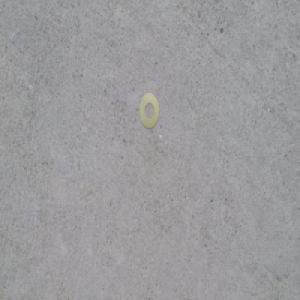Washer: (137, 92, 158, 132)
